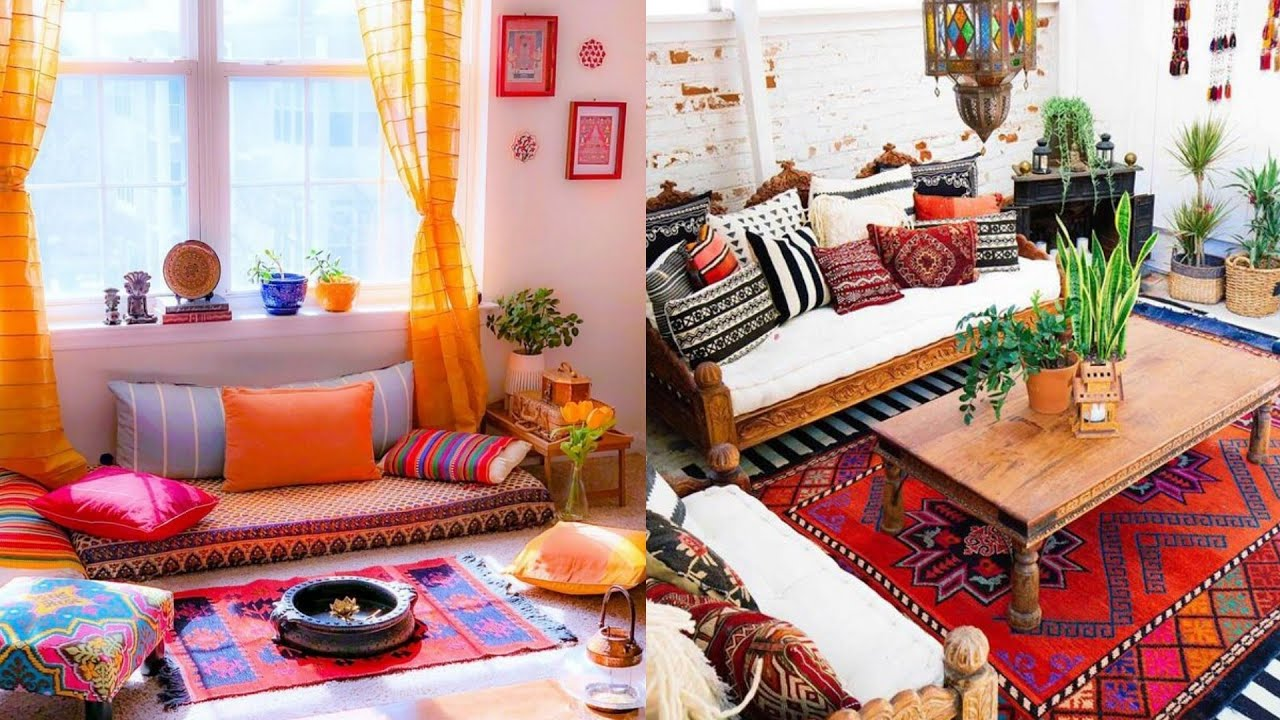biru: (260, 279, 307, 316)
coklat: (881, 314, 1280, 543)
hitam: (1015, 174, 1137, 235)
kuning: (521, 522, 646, 590), (313, 281, 357, 312)
orange: (219, 386, 382, 486)
pink: (44, 464, 212, 532)
putih: (505, 351, 544, 393)
